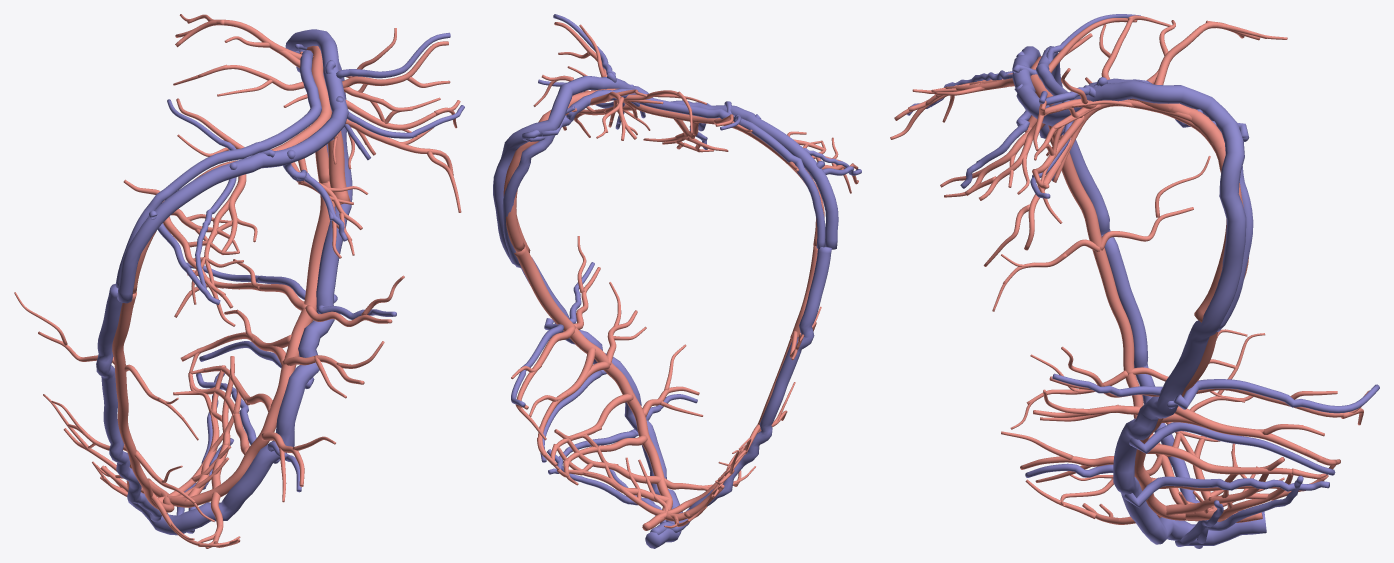
Rendered from vessels_57.glb.
3 views of the same model, side by side, from view 1: azimuth 30°, elevation 25°; view 2: azimuth 150°, elevation 25°; view 3: azimuth 270°, elevation 25° (orthographic). The views are drawn at different scales.
Parts seen in each view (by area): view 1: Renderer Node; view 2: Renderer Node; view 3: Renderer Node.
Part boxes in pixels (x1,y1,x2,y2): Renderer Node: (14, 14, 464, 548); Renderer Node: (493, 14, 861, 548); Renderer Node: (890, 14, 1379, 548).
Bounding box in the file's own units: 94.79 × 122 × 95.48.
